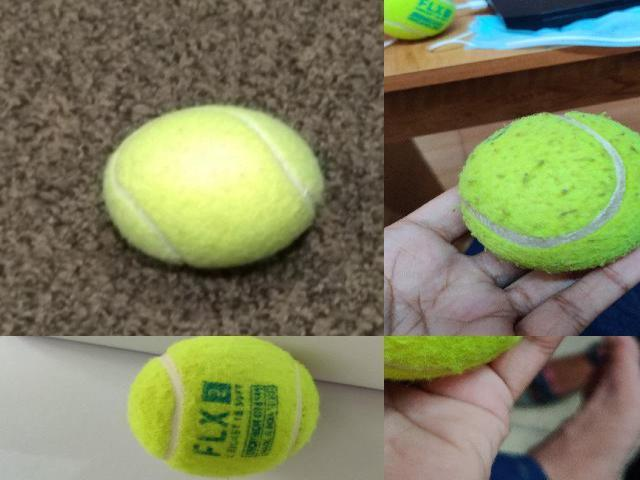tennis-ball: (103, 105, 325, 269), (458, 111, 639, 271), (125, 336, 322, 479), (384, 336, 524, 378), (384, 0, 455, 41)
